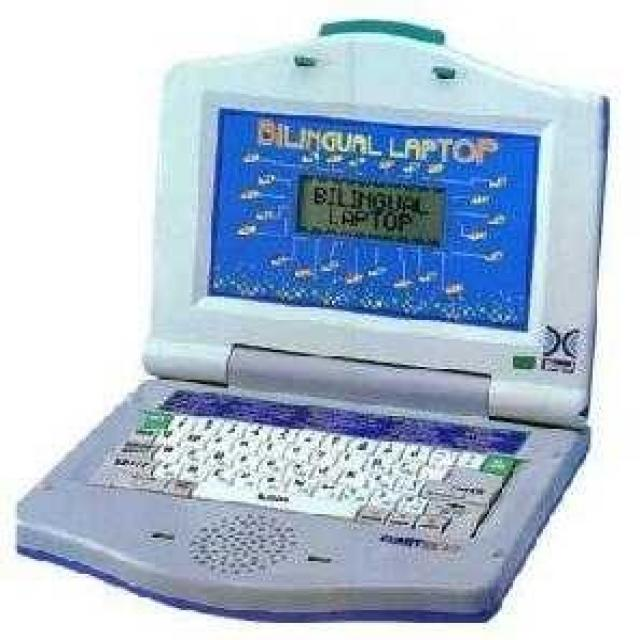laptop: (142, 87, 596, 598)
